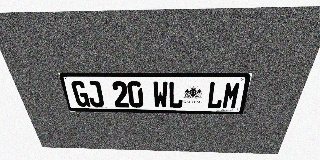0: (127, 81, 144, 108)
2: (111, 81, 129, 107)
G: (70, 81, 91, 107)
J: (85, 81, 105, 107)
L: (206, 82, 225, 109), (168, 81, 184, 108)
M: (221, 82, 242, 109)
W: (153, 81, 168, 108)
